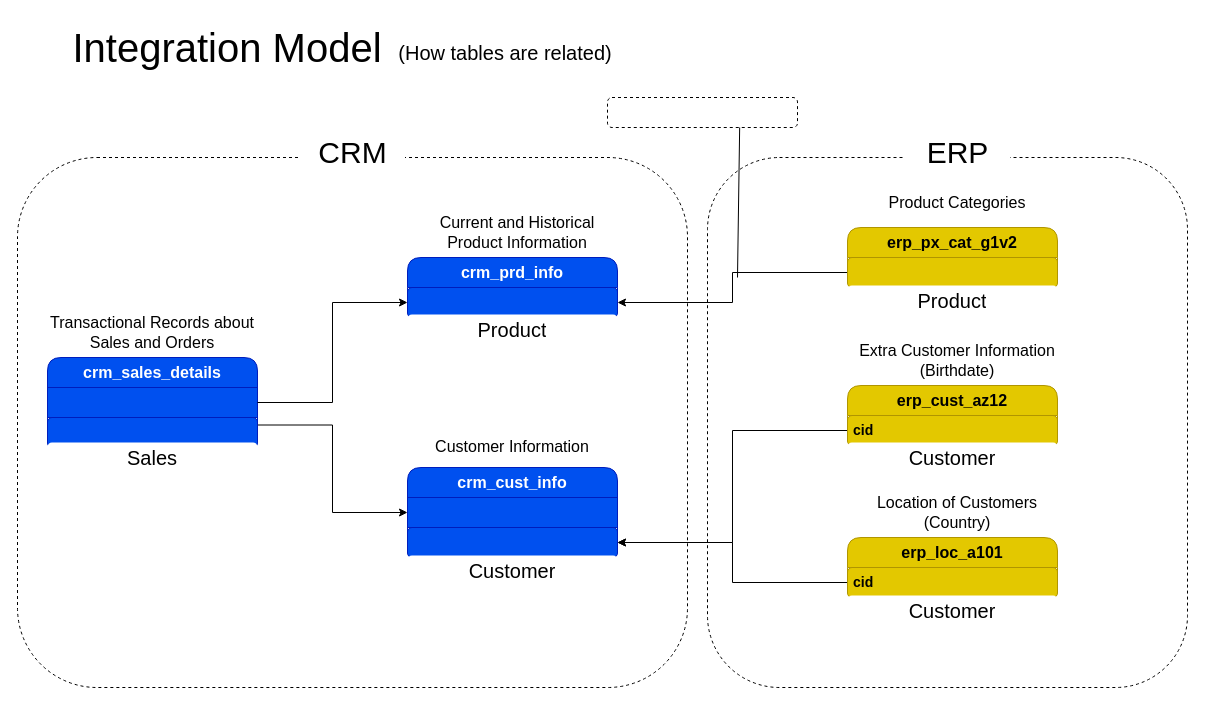
This 1205x705 diagram has some shape labels left out. Here are the shapes that lost their labels. From the top down, the centre of each, then its label:
the point at 702,112: Category ID extracted from prd_key in Silver
the point at 952,272: id
the point at 512,302: prd_key
the point at 152,402: sls_prd_key
the point at 152,432: sls_cust_id
the point at 512,512: cst_id
the point at 512,542: cst_key
